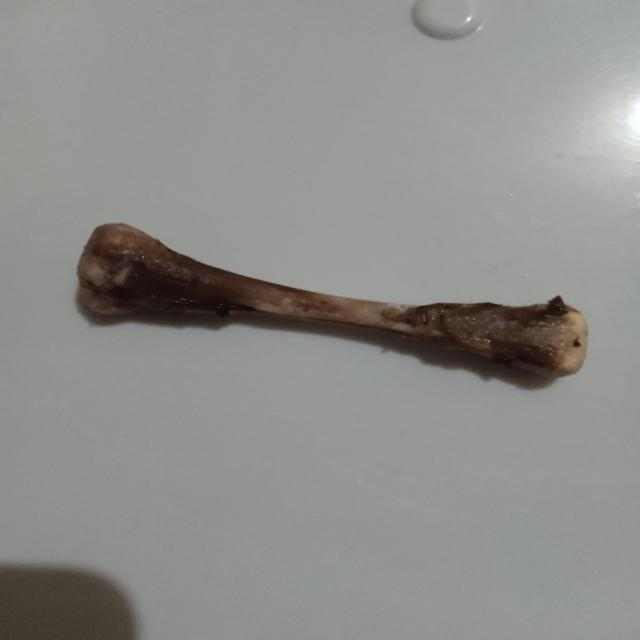bone: (56, 214, 606, 392)
